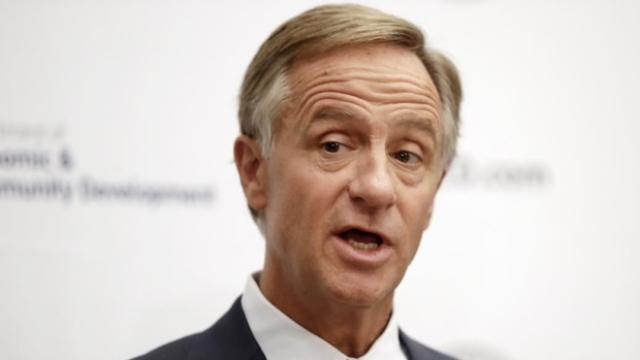forehead: (364, 71, 398, 111), (318, 67, 352, 103), (404, 79, 434, 115), (295, 76, 315, 116)
gummy_smile: (331, 182, 349, 204), (392, 202, 406, 220)
